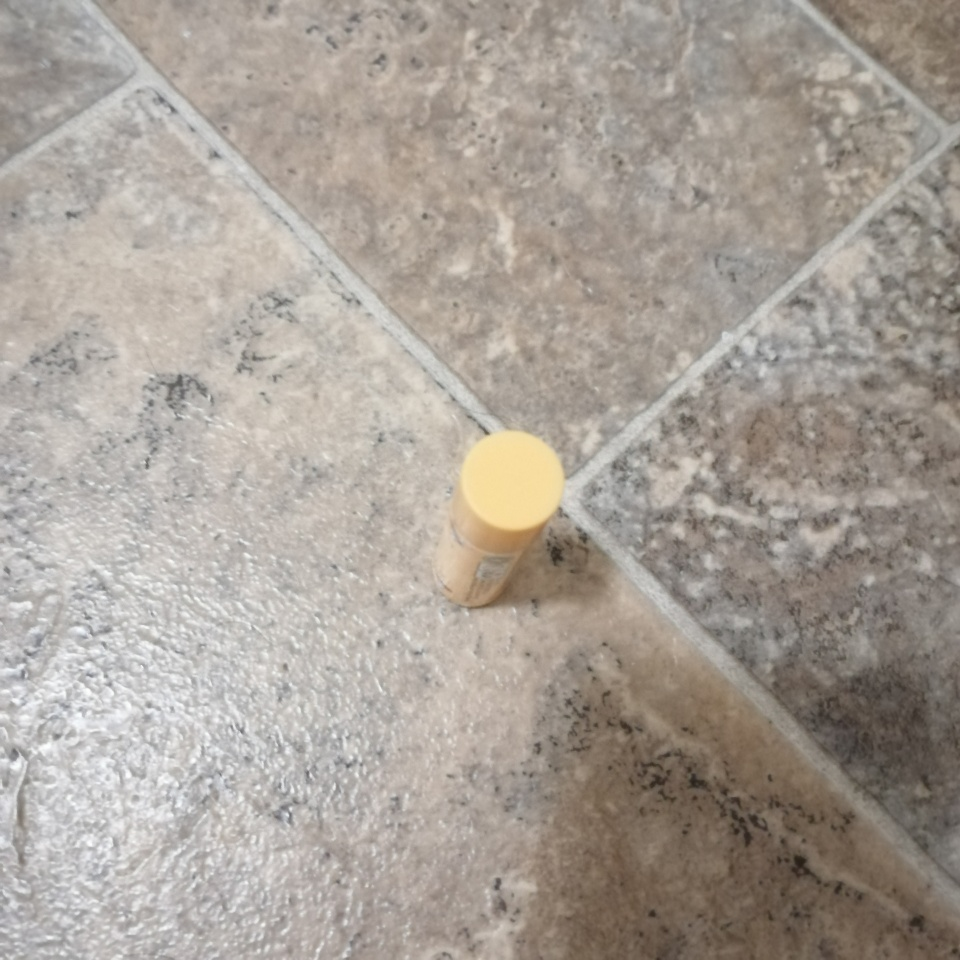chapstick: (432, 430, 564, 609)
